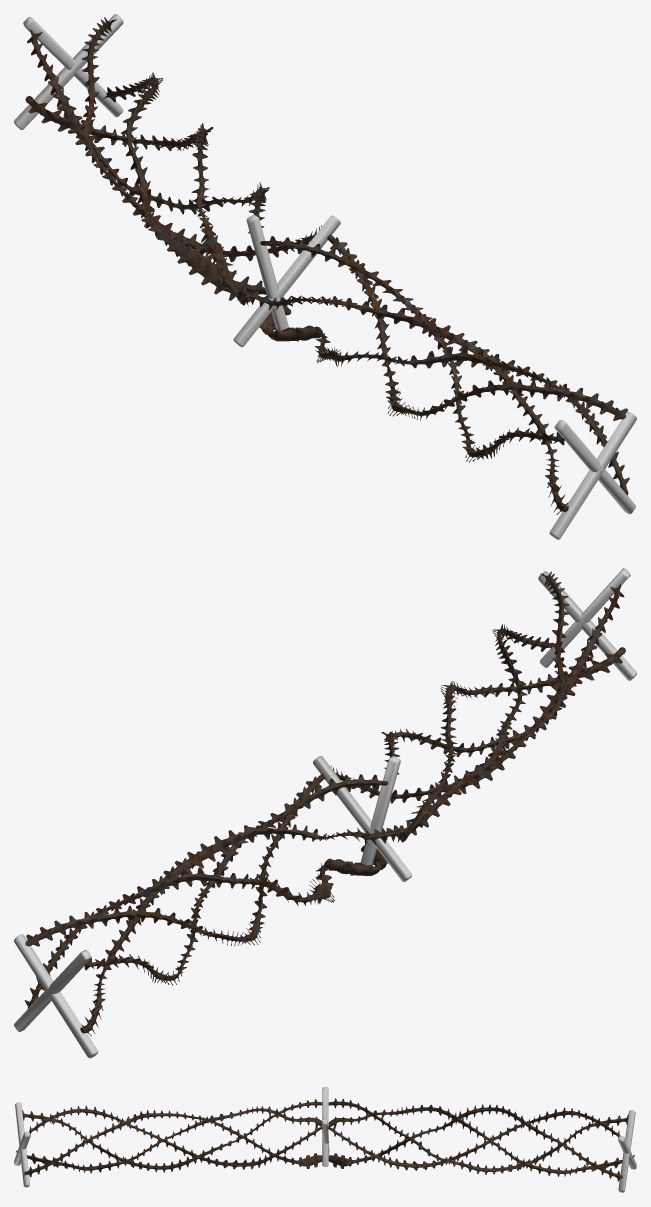
File: wire.dae
3 views of the same model, one above another, from view 1: azimuth 30°, elevation 25°; view 2: azimuth 150°, elevation 25°; view 3: azimuth 270°, elevation 25° (orthographic). The views are drawn at different scales.
Parts seen in each view (by area): view 1: Layer_0; view 2: Layer_0; view 3: Layer_0.
Boxes of the visible parts, x1,y1,x2,y2 form: Layer_0: (14, 14, 636, 539); Layer_0: (14, 568, 636, 1058); Layer_0: (14, 1087, 636, 1192).
Size of the model in its own units: 1.19 by 7.26 by 0.9126.
